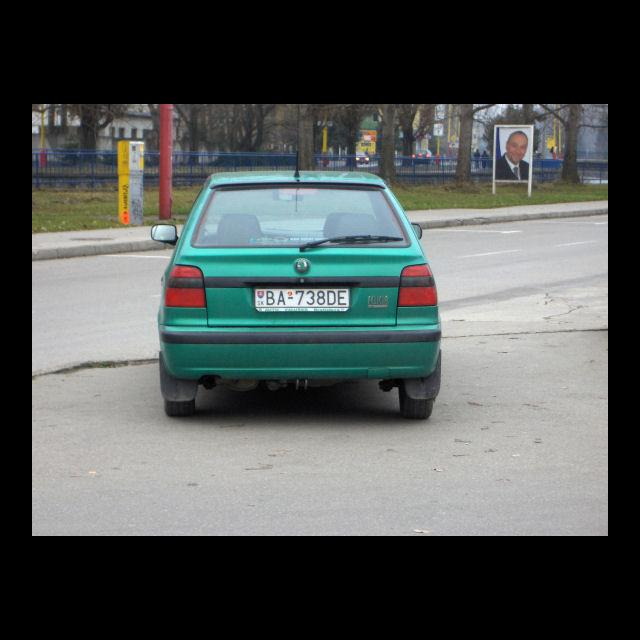Plate: (253, 285, 351, 311)
